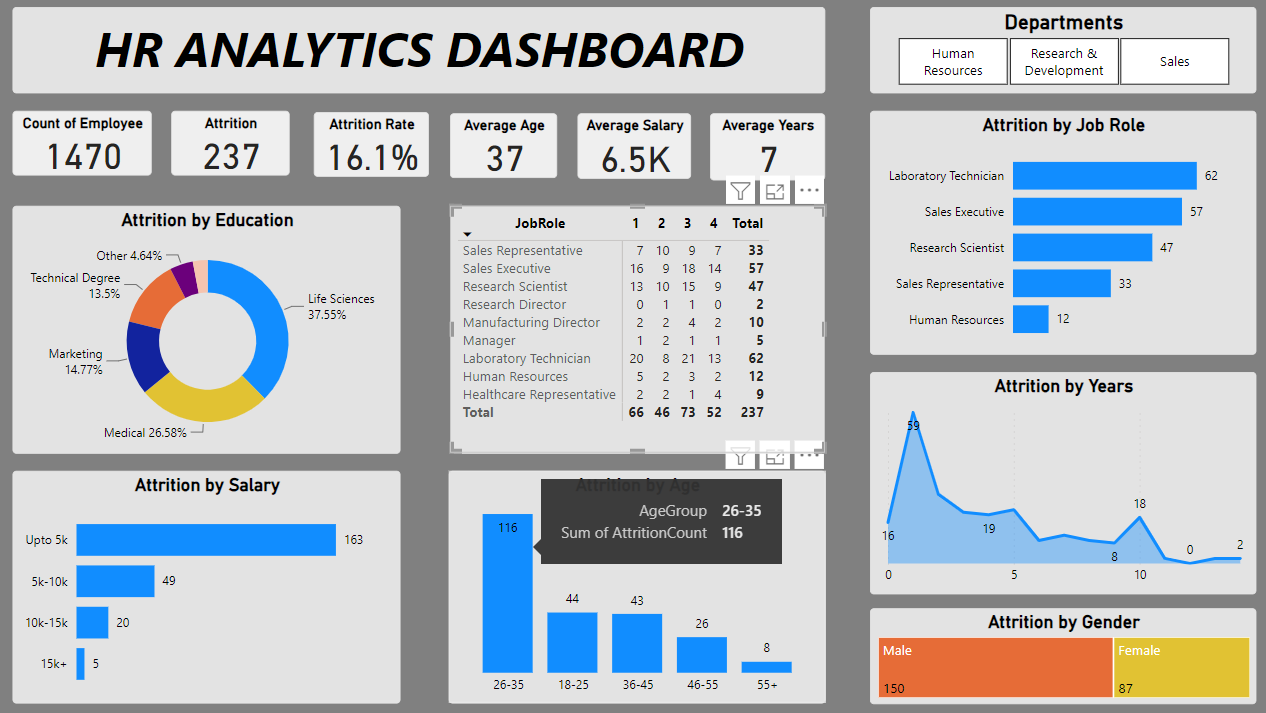

The page's visual inventory and layout, read from the dashboard file:
{"tool":"powerbi","page":{"name":"Page 1","canvas":[1280,720],"ordinal":0},"visuals":[{"type":"card","title":"Count of Employee","fields":{"Values":["CountNonNull(HR_Analytics.EmpID)"]},"box":[17,113.8,139.4,64.9],"z":0},{"type":"card","title":"Attrition","fields":{"Values":["Sum(HR_Analytics.AttritionCount)"]},"box":[176.6,113.8,118.1,64.9],"z":1000},{"type":"card","title":"Attrition Rate","fields":{"Values":["HR_Analytics.AttritionRate"]},"box":[319.1,114.9,114.9,64.9],"z":2000},{"type":"card","title":"Average Age ","fields":{"Values":["Avg(HR_Analytics.Age)"]},"box":[455.3,116,107.4,64.9],"z":3000},{"type":"card","title":"Average Salary","fields":{"Values":["Avg(HR_Analytics.MonthlyIncome)"]},"box":[583,116,113.8,66],"z":4000},{"type":"card","title":"Average Years ","fields":{"Values":["Avg(HR_Analytics.YearsAtCompany)"]},"box":[714.9,116,114.9,67],"z":5000},{"type":"donutChart","title":"Attrition by Education","fields":{"Category":["HR_Analytics.EducationField"],"Y":["Sum(HR_Analytics.AttritionCount)"]},"box":[17,208.5,388.3,247.9],"z":6000},{"type":"columnChart","title":"Attrition by Age","fields":{"Category":["HR_Analytics.AgeGroup"],"Y":["Sum(HR_Analytics.AttritionCount)"]},"box":[453.2,473.4,376.6,233],"z":7000},{"type":"pivotTable","fields":{"Rows":["HR_Analytics.JobRole"],"Columns":["HR_Analytics.JobSatisfaction"],"Values":["Sum(HR_Analytics.AttritionCount)"]},"box":[455.3,208.5,374.5,247.9],"z":8000},{"type":"barChart","title":"Attrition by Salary","fields":{"Category":["HR_Analytics.SalarySlab"],"Y":["Sum(HR_Analytics.AttritionCount)"]},"box":[17,473.4,388.3,233],"z":9000},{"type":"barChart","title":"Attrition by Job Role","fields":{"Category":["HR_Analytics.JobRole"],"Y":["Sum(HR_Analytics.AttritionCount)"]},"box":[875.5,113.8,386.2,243.6],"z":10000},{"type":"areaChart","title":"Attrition by Years","fields":{"Category":["HR_Analytics.YearsAtCompany"],"Y":["Sum(HR_Analytics.AttritionCount)"]},"box":[875,375,386.2,222.5],"z":11000},{"type":"treemap","title":"Attrition by Gender","fields":{"Group":["HR_Analytics.Gender"],"Values":["Sum(HR_Analytics.AttritionCount)"]},"box":[875.5,610.6,386.2,95.7],"z":12000},{"type":"slicer","title":"Departments","fields":{"Values":["HR_Analytics.Department"]},"box":[875.5,9.6,386.2,86.2],"z":13000},{"type":"textbox","box":[17,9.6,812.8,86.2],"z":14000}]}

Visuals, with their boxes in screenshot pixels (x1, y1, x2, y2), scaled from the page's 1280x720 canvas onto the 1266x713 screenshot:
"Count of Employee" card: [17,113,155,177]
"Attrition" card: [175,113,291,177]
"Attrition Rate" card: [316,114,429,178]
"Average Age " card: [450,115,557,179]
"Average Salary" card: [577,115,689,180]
"Average Years " card: [707,115,821,181]
"Attrition by Education" donutChart: [17,206,401,452]
"Attrition by Age" columnChart: [448,469,821,700]
pivotTable - HR_Analytics.JobRole x HR_Analytics.JobSatisfaction: [450,206,821,452]
"Attrition by Salary" barChart: [17,469,401,700]
"Attrition by Job Role" barChart: [866,113,1248,354]
"Attrition by Years" areaChart: [865,371,1247,592]
"Attrition by Gender" treemap: [866,605,1248,699]
"Departments" slicer: [866,10,1248,95]
textbox: [17,10,821,95]
